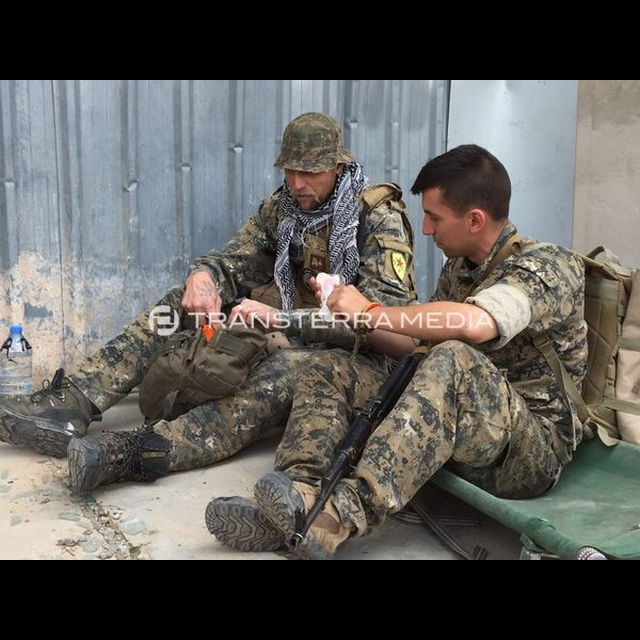YPG: (386, 248, 409, 283)
